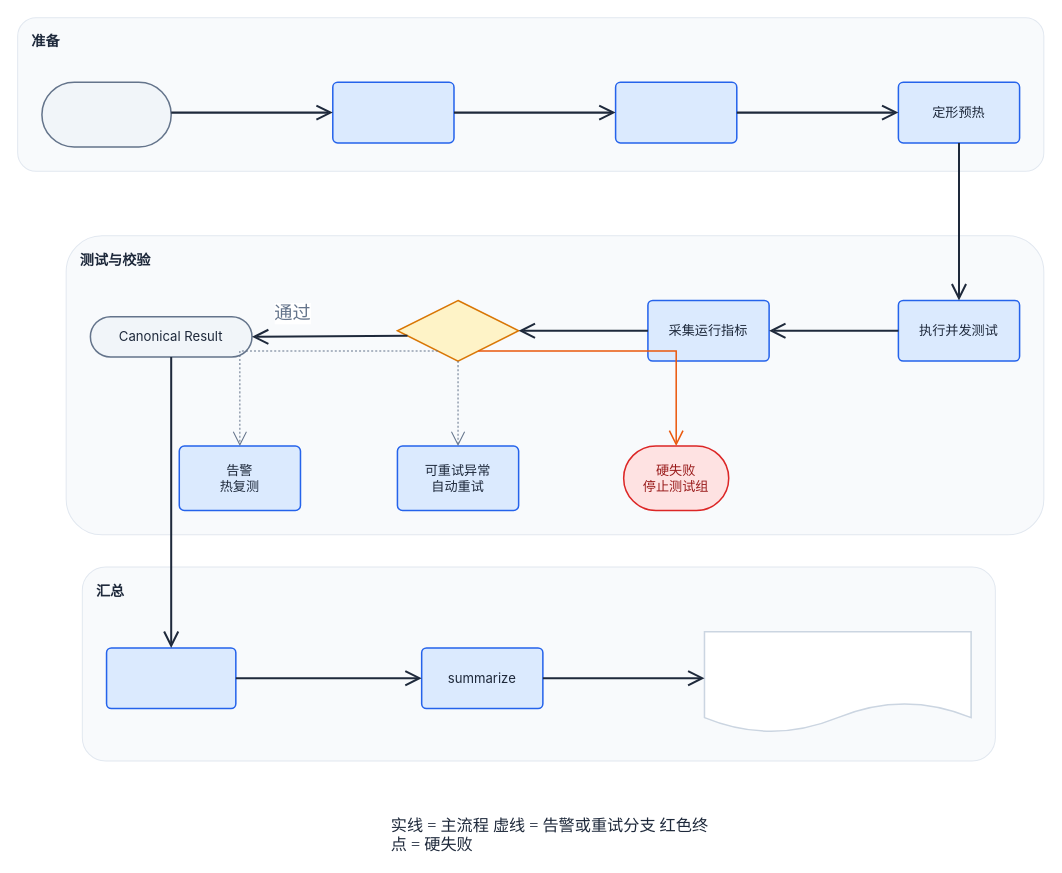
This 1062x873 diagram has some shape labels left out. The centre of each missing label's shape, as x and y in pixels:
CSV / XLSX / Markdown / Charts: pixel 837 682
Group Review: pixel 170 678
init 采集软硬件环境: pixel 106 114
生成服务配置: pixel 393 112
结果校验: pixel 457 330
重启 vLLM: pixel 675 112
